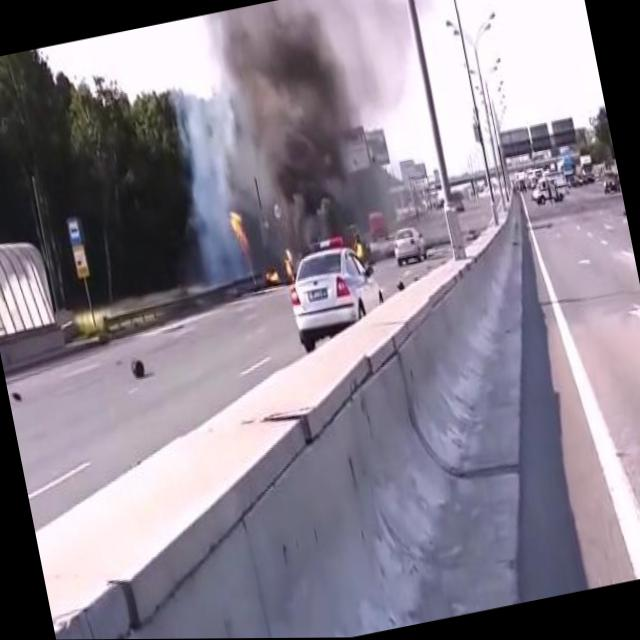fire: (222, 201, 252, 254), (262, 261, 284, 290), (280, 245, 297, 282), (348, 237, 368, 259)
